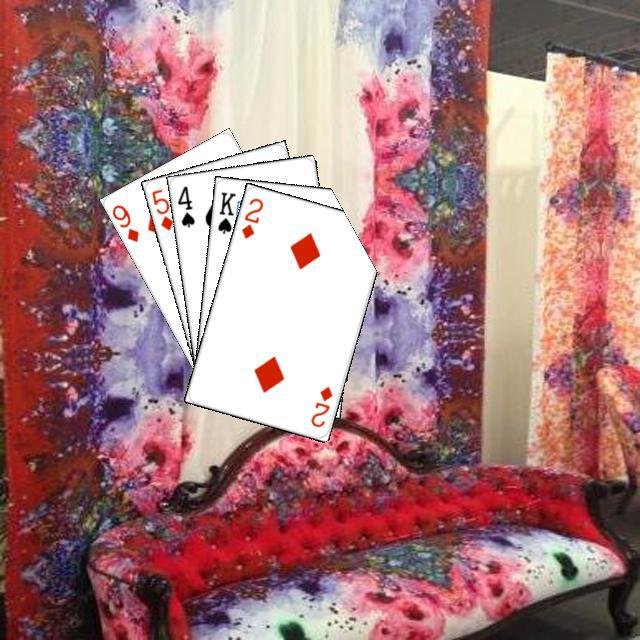2d: (236, 193, 265, 240), (306, 381, 334, 429)
4s: (172, 181, 196, 229)
5d: (147, 184, 175, 232)
9d: (107, 200, 141, 244)
Ks: (213, 187, 237, 235)
